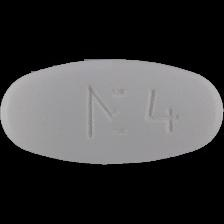0378-3066: (0, 0, 224, 224)
